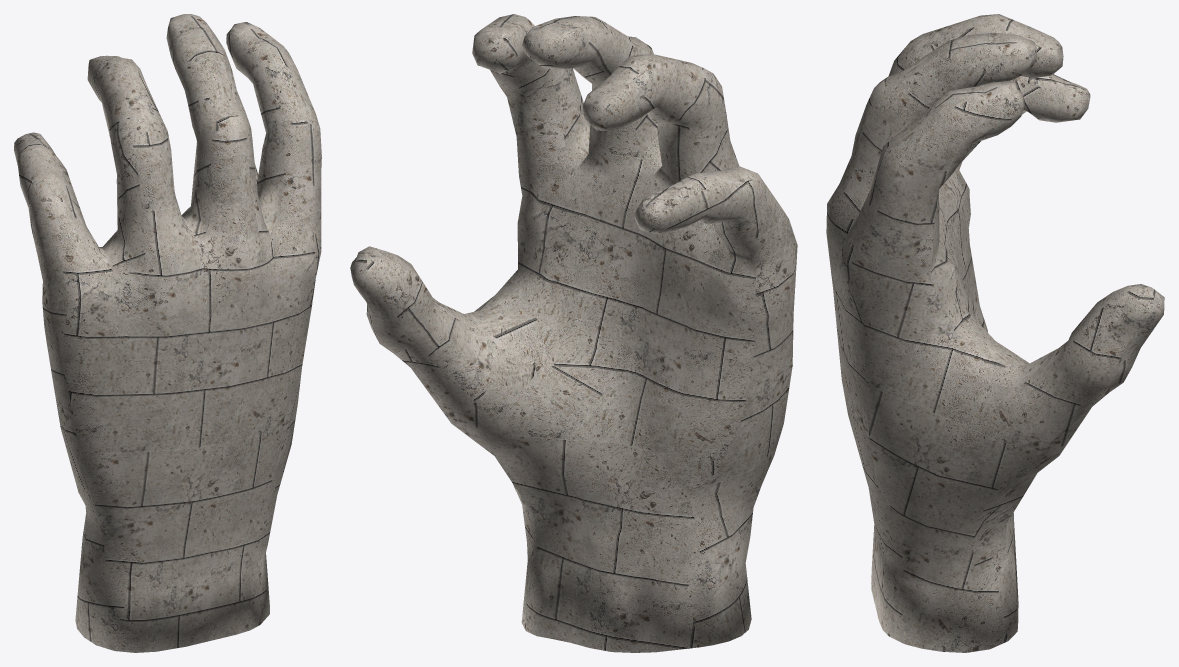
Rendered from hand2.fbx.
3 renders of one model, left to right at view 1: azimuth 30°, elevation 25°; view 2: azimuth 150°, elevation 25°; view 3: azimuth 270°, elevation 25°, orthographic. The views are drawn at different scales.
Visible parts, largest first — view 1: hand2; view 2: hand2; view 3: hand2.
Part boxes in pixels (x1=…): hand2: x1=14, y1=14, x2=321, y2=652; hand2: x1=350, y1=14, x2=797, y2=652; hand2: x1=826, y1=14, x2=1164, y2=652.
Bounding box in the file's own units: 1105 × 1982 × 1025.
1 material, 1 textured.
